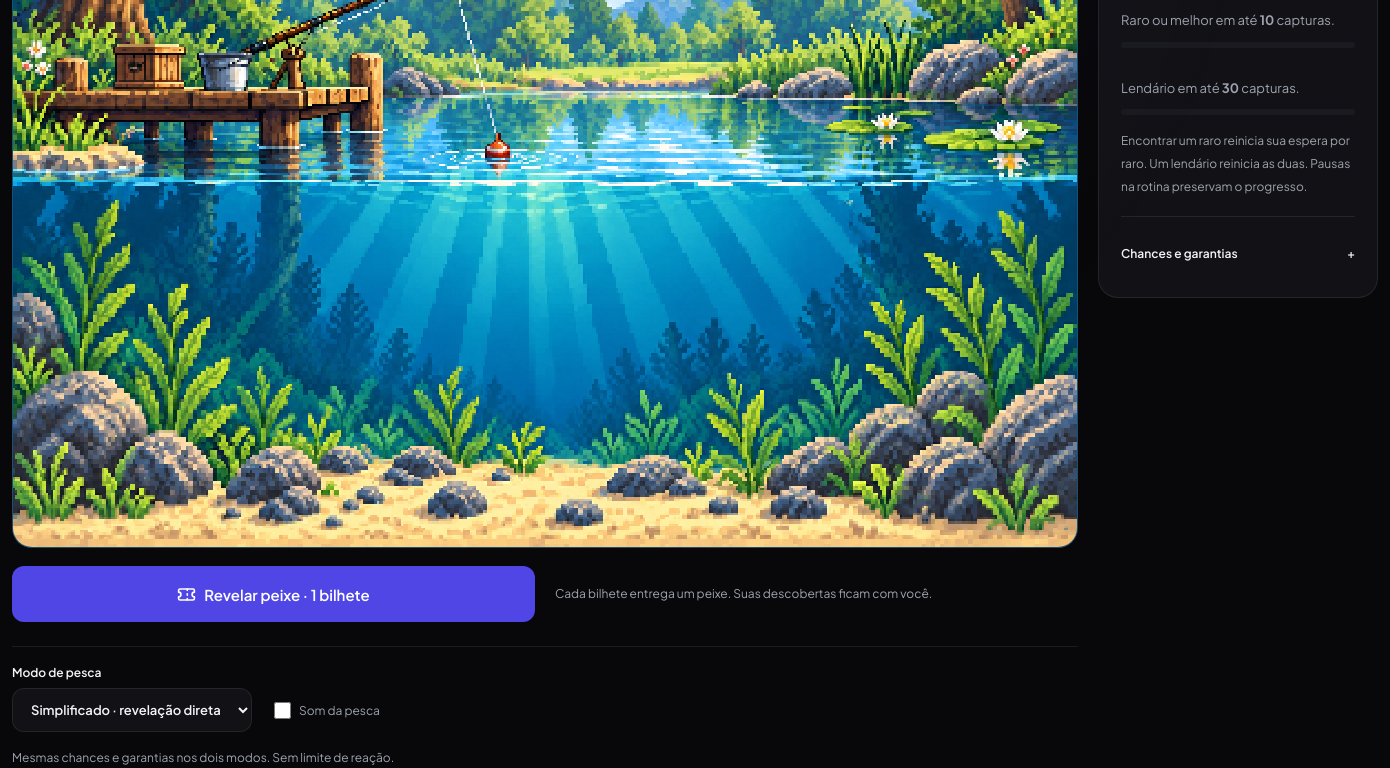
Scenario: stage 4 real guest interactions › uses the simplified mode without waiting or changing the ticket cost
(page scrolled)
Click the button "Revelar peixe · 1 bilhete".
click(274, 594)  # box [12, 566, 535, 622]
(page scrolled)
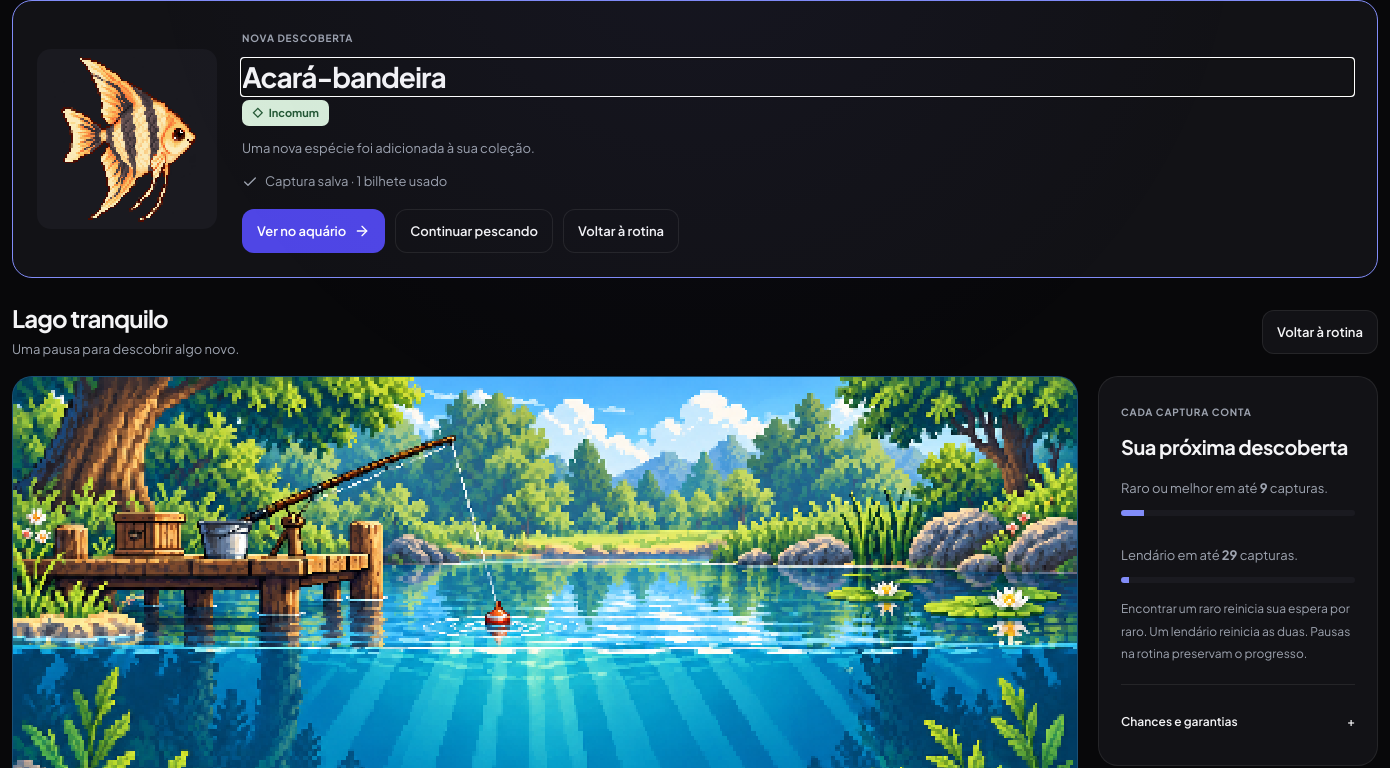
Result: the text "Captura salva · 1 bilhete usado" is shown at [242, 173, 447, 190]
